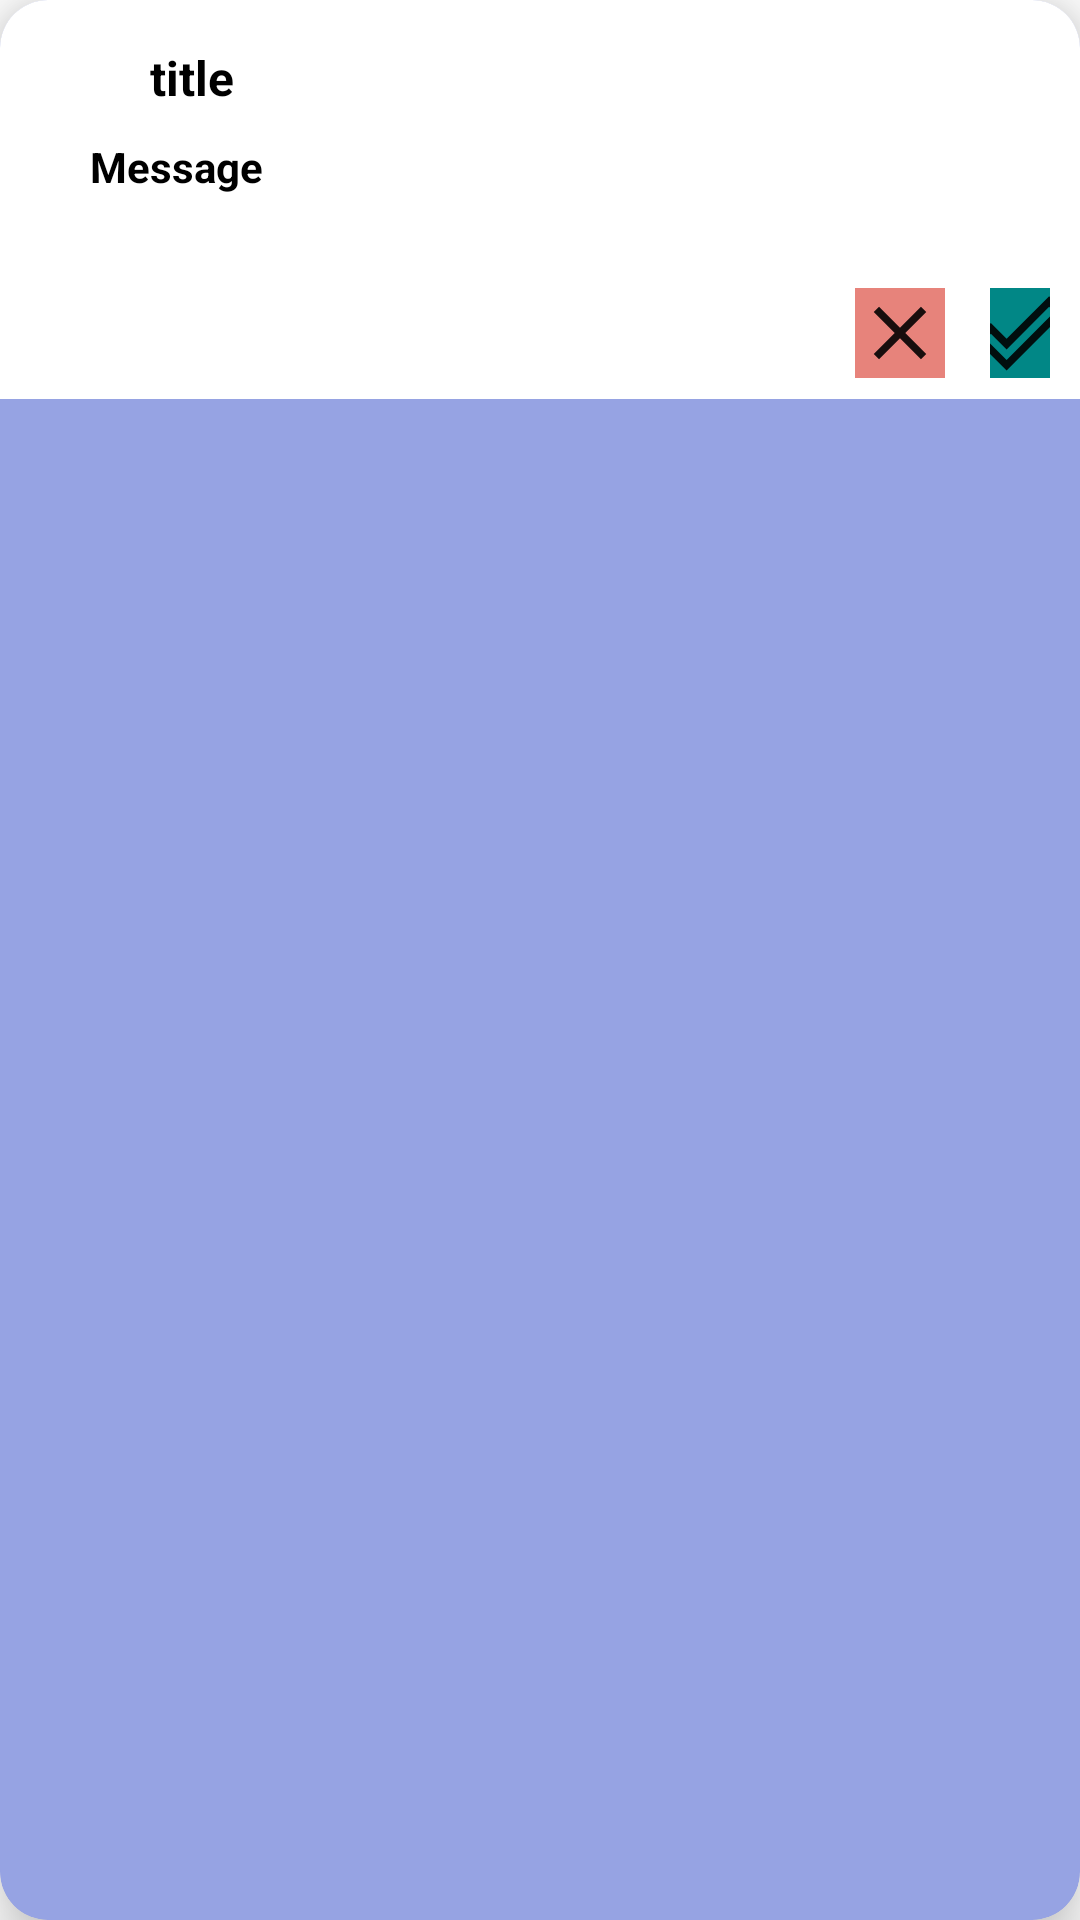

Icon bounding boxes for this 1080×1920 phone screenshot, format (x1, y1, x2, y2):
tick: (990, 288, 1050, 378)
